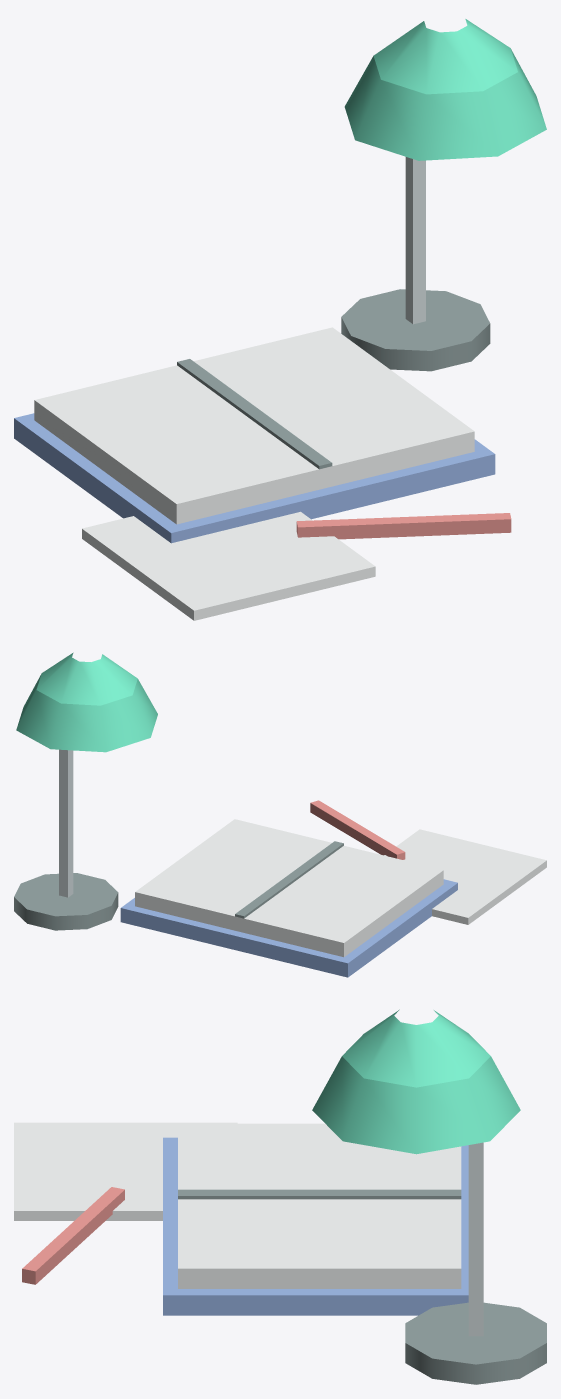
Rendered from studyNotes.glb.
3 views of the same model, one above another, from view 1: azimuth 30°, elevation 25°; view 2: azimuth 150°, elevation 25°; view 3: azimuth 270°, elevation 25° (orthographic). The views are drawn at different scales.
Visible parts, largest first — view 1: studyNotes; view 2: studyNotes; view 3: studyNotes.
Part boxes in pixels (left/top/right/bottom): studyNotes: left=14, top=19, right=546, bottom=620; studyNotes: left=14, top=652, right=546, bottom=977; studyNotes: left=14, top=1009, right=546, bottom=1384.
Bounding box in the file's own units: 0.42 × 0.25 × 0.3576.
